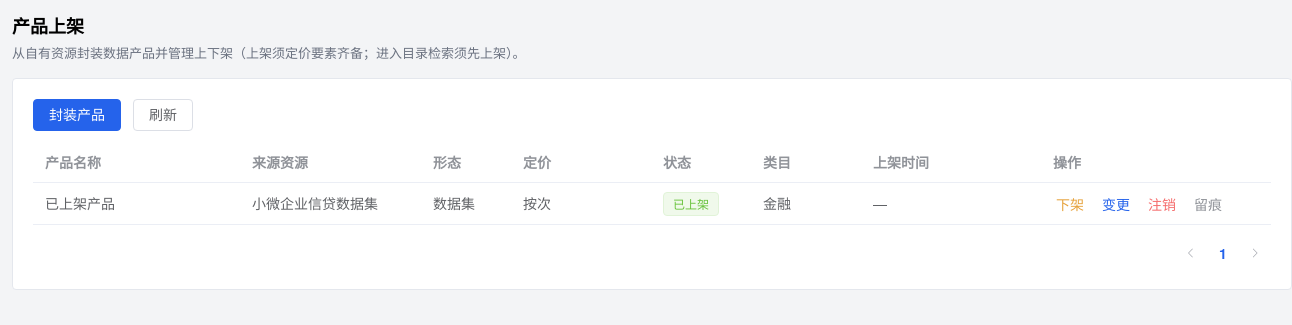
Test: 上架 / 下架 / 重新上架 / 注销（T16） › 在架注销：服务端状态机拒绝 1007C0019 原样展示
The image size is (1292, 325).
Click the button with class "cancel-btn": x=1162, y=205 [1145, 195, 1179, 215]
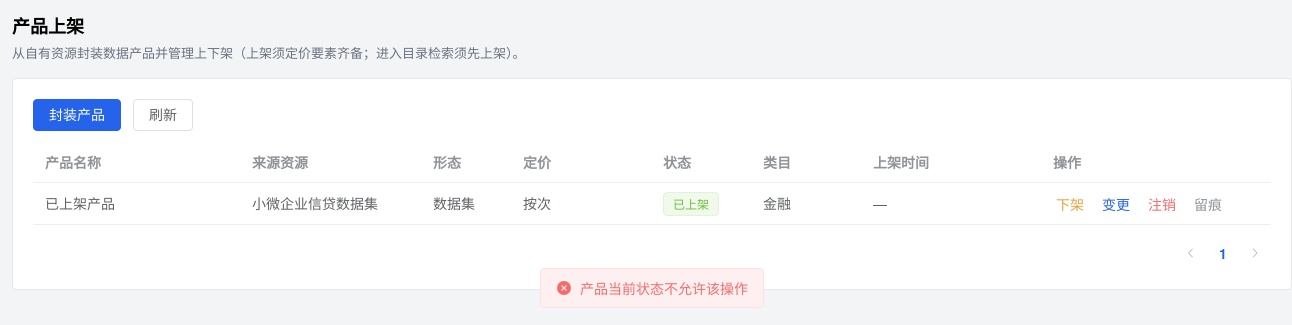
Now the text "产品当前状态不允许该操作" is shown, box [580, 281, 748, 295]
